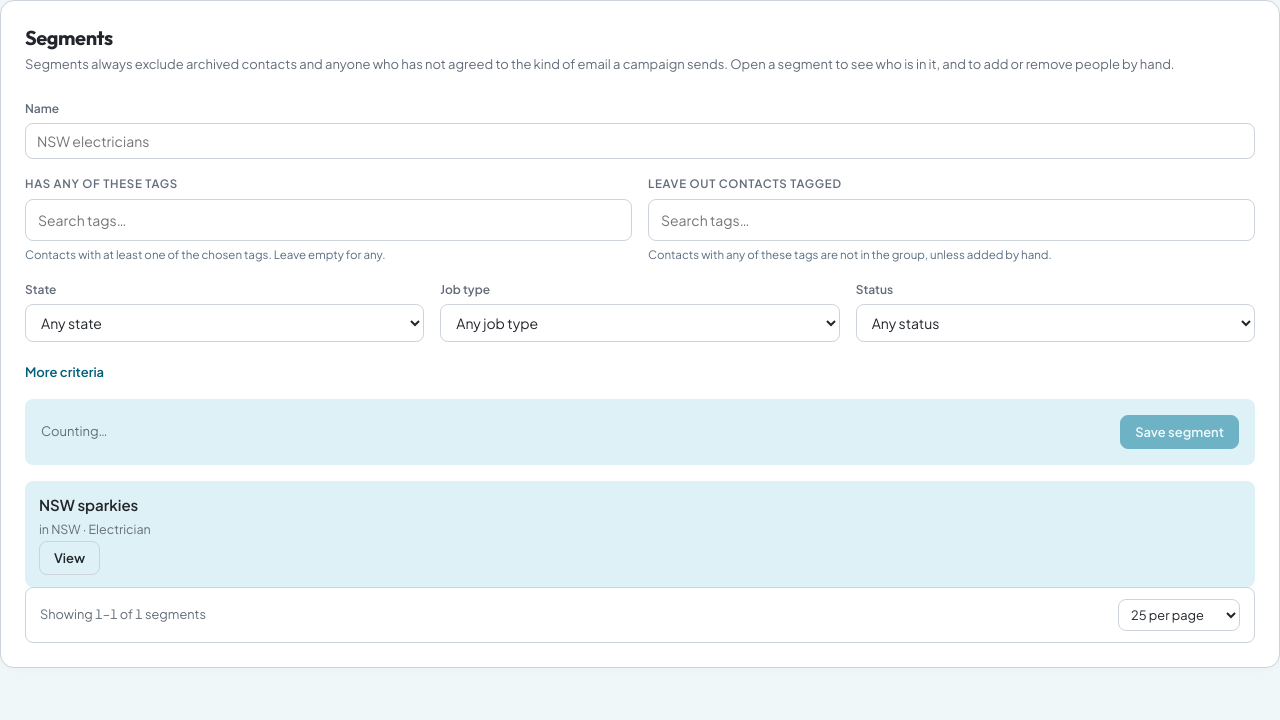
Scenario: SegmentsPanel › opens a segment to see who is in it
This screenshot has width=1280, height=720.
Click the button with test id "open-segment-seg-1". click: coordinates (70, 558)
box: [39,540,100,574]
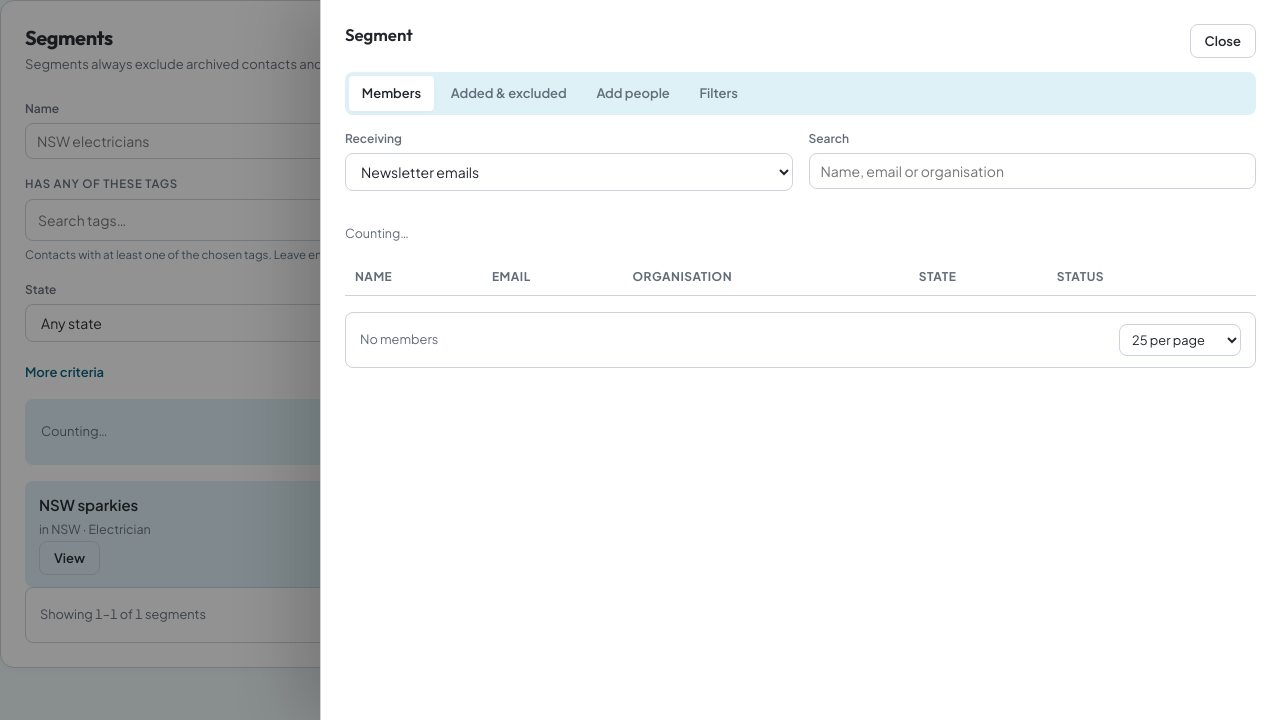
Check: the dialog with test id "segment-drawer" is shown
Click the button with test id "close-segment". click: coordinates (1223, 41)
box: [1190,24,1256,58]
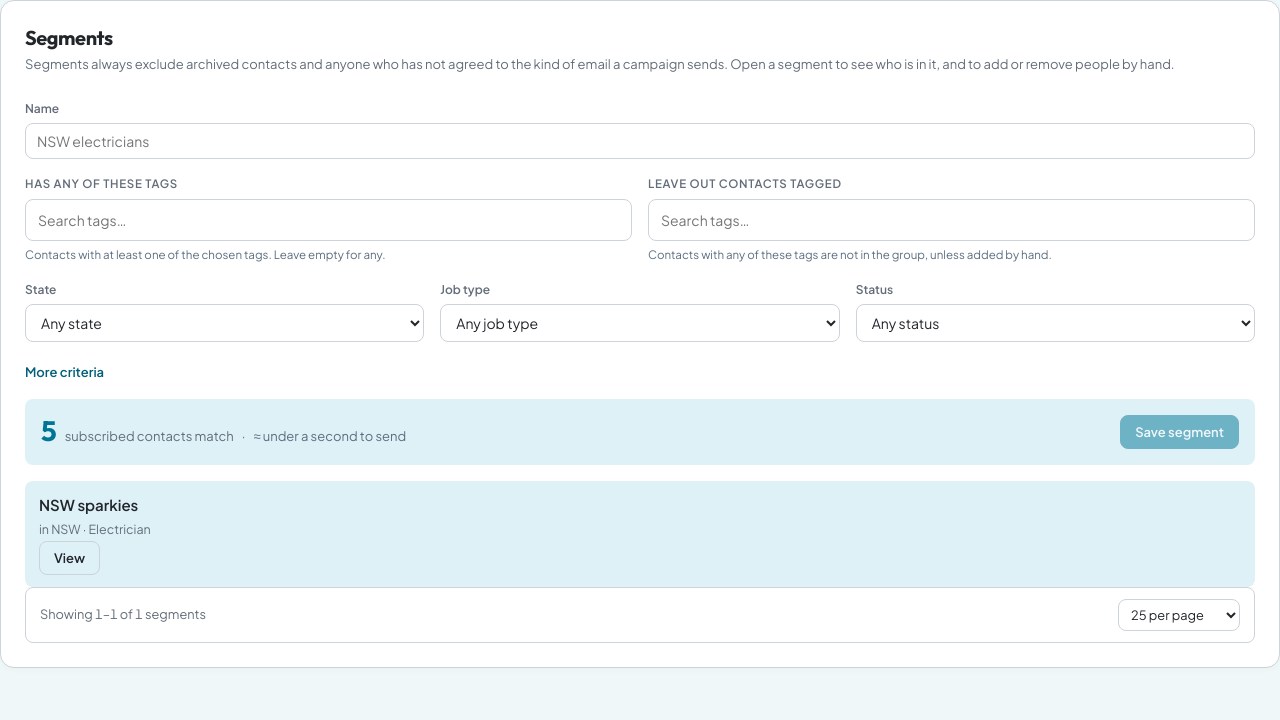
Check: the dialog with test id "segment-drawer" is gone
